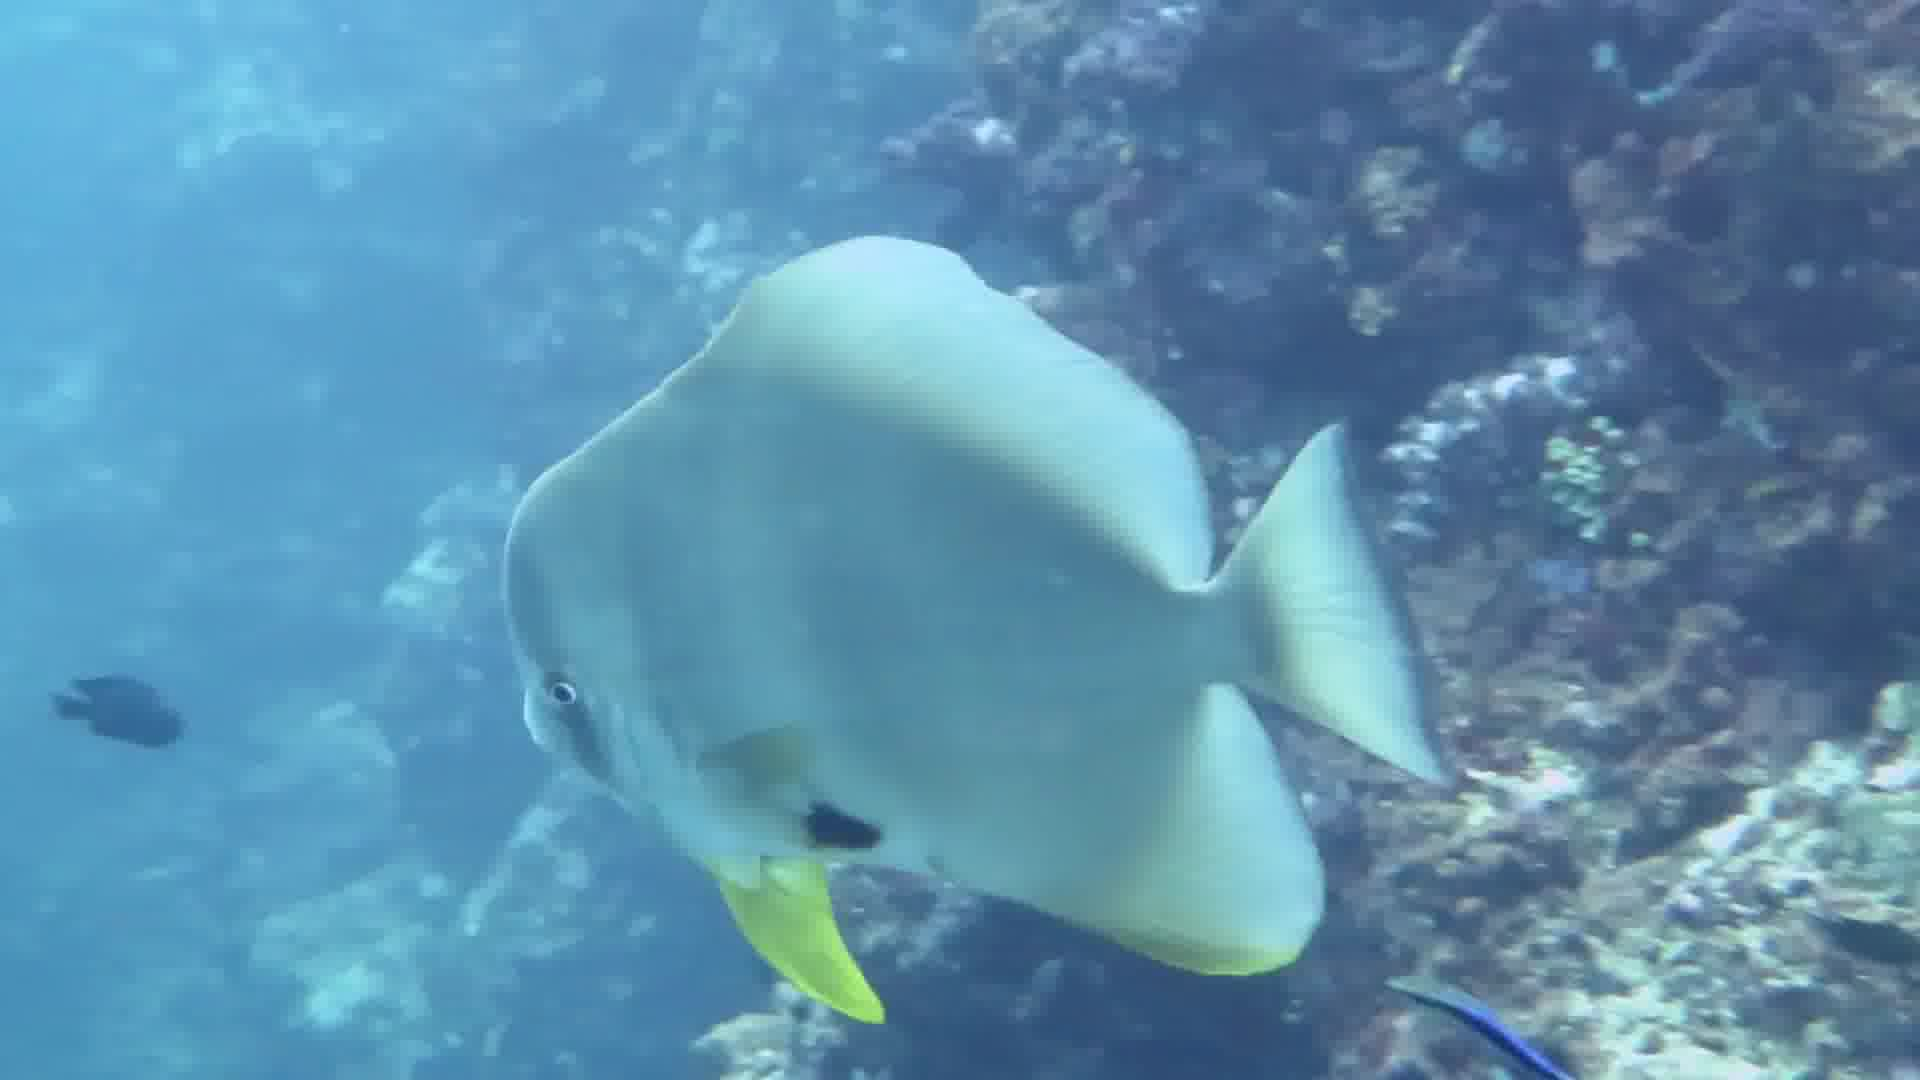Platax teira: (465, 199, 1484, 1039)
